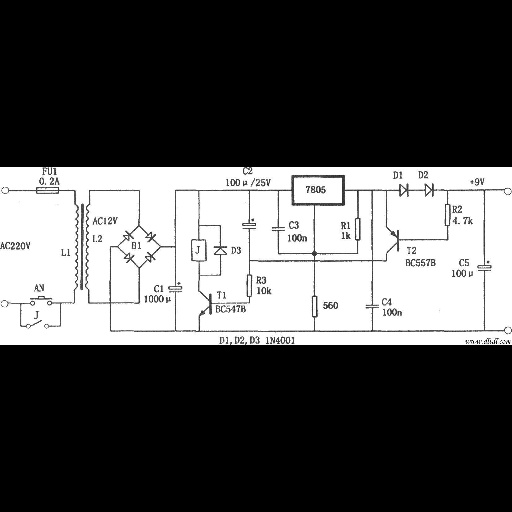capacitor: (364, 300, 381, 313), (271, 223, 286, 235)
firstresistance: (353, 216, 364, 244), (441, 203, 452, 229), (244, 272, 254, 300), (309, 294, 319, 319)
fuse: (32, 186, 65, 197)
npn: (194, 286, 214, 324)
pnp: (382, 222, 402, 256)
rectifierbridge: (115, 225, 164, 269)
seconddiode: (395, 181, 412, 199), (211, 243, 229, 258), (423, 181, 436, 200)
secondpolarcapacitor: (239, 217, 260, 232), (476, 258, 493, 275), (167, 280, 185, 294)
transformer: (70, 199, 93, 295)
